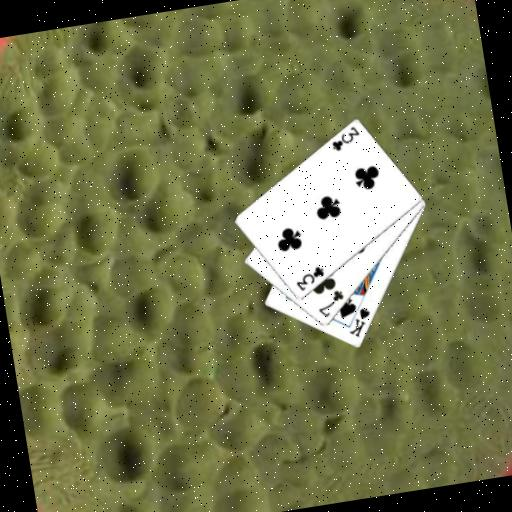3C: (326, 122, 363, 154), (290, 262, 327, 293)
7C: (312, 285, 348, 320)
KS: (342, 304, 374, 340)
